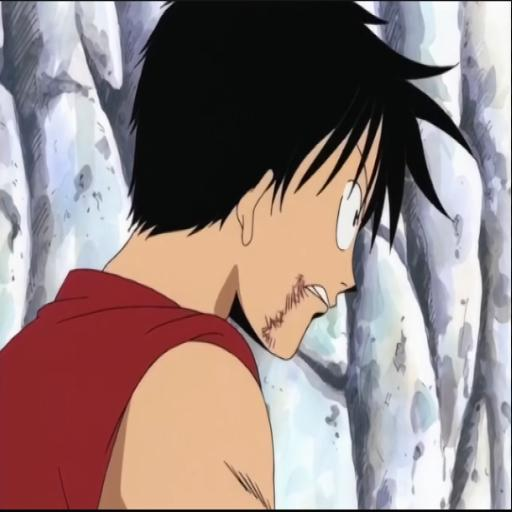Luffy: (6, 0, 424, 512)
